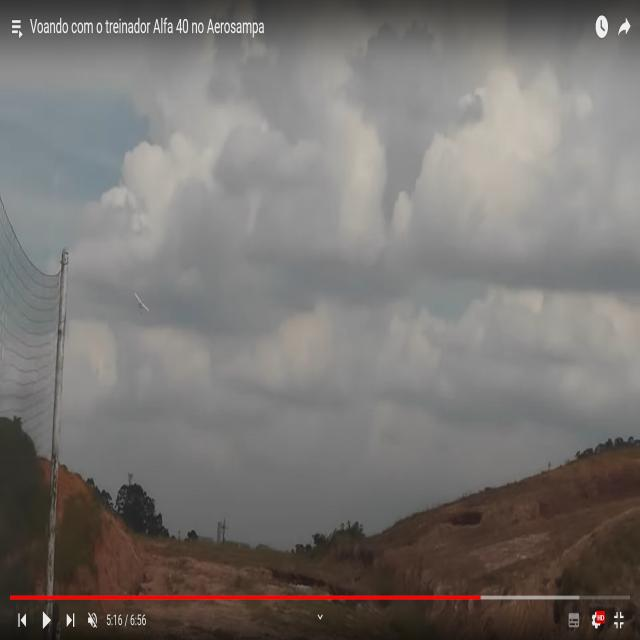iha: (132, 291, 150, 315)
